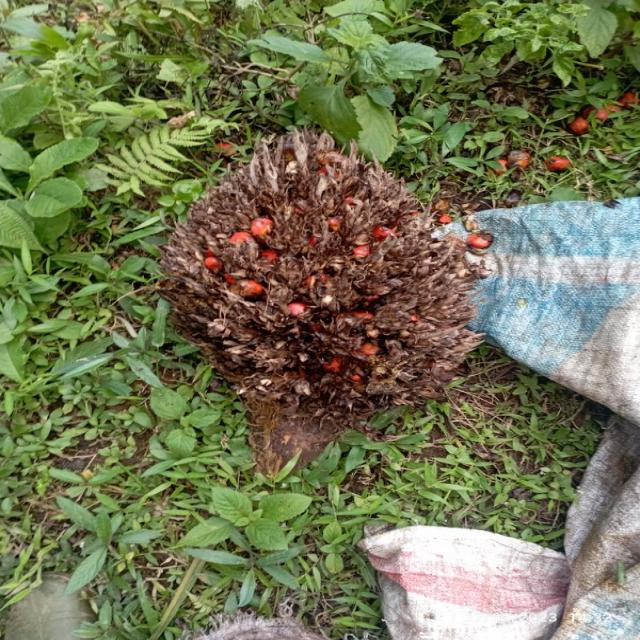fraksi 4: (122, 120, 495, 440)
